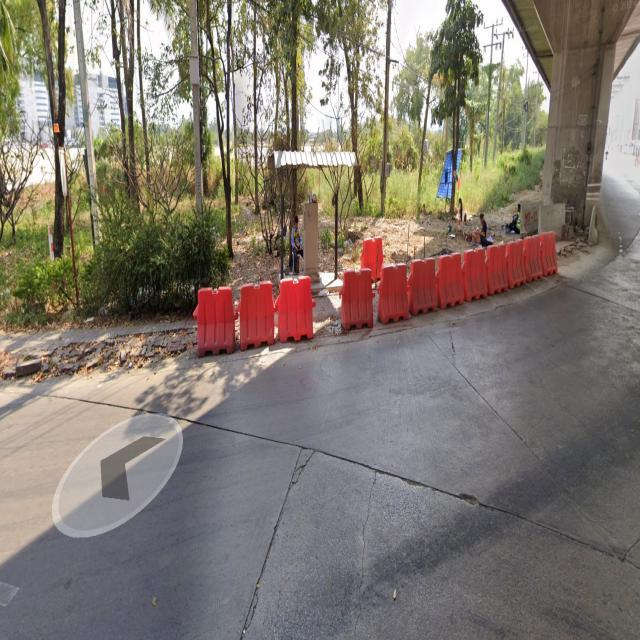fallen_object: (233, 262, 321, 352), (499, 199, 578, 283), (186, 277, 244, 365), (366, 257, 445, 321), (455, 236, 523, 297), (326, 267, 380, 337), (357, 227, 386, 285)
